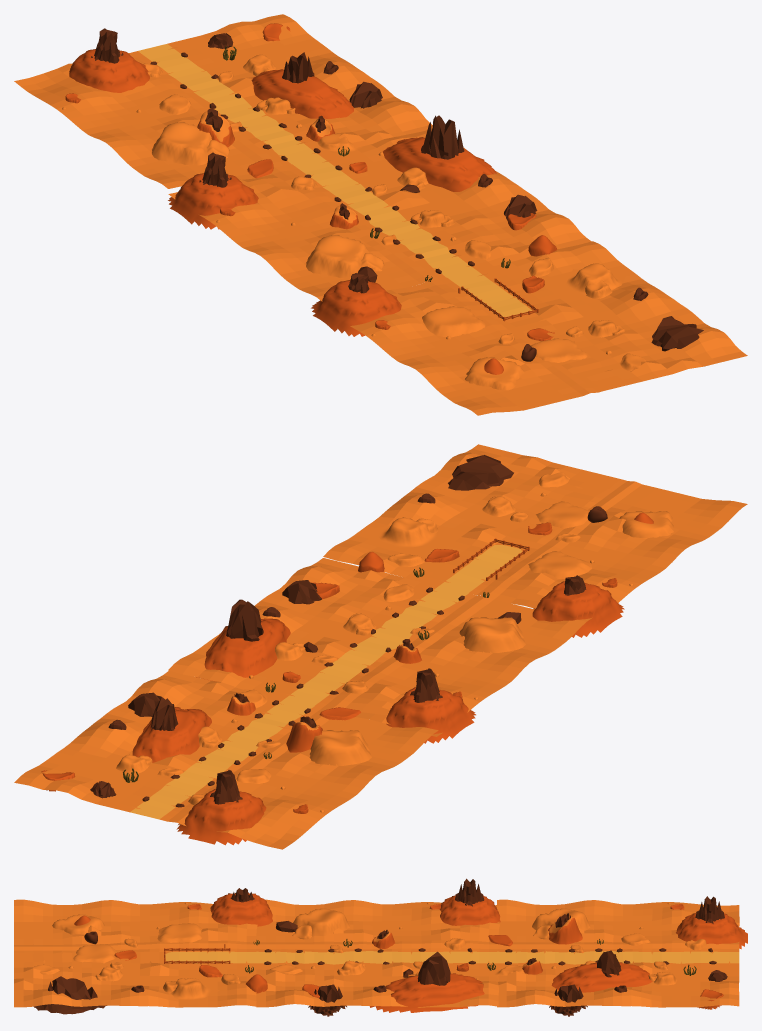
File: Desert.fbx
3 renders of one model, top to bottom at view 1: azimuth 30°, elevation 25°; view 2: azimuth 150°, elevation 25°; view 3: azimuth 270°, elevation 25°, orthographic. The views are drawn at different scales.
Visible parts, largest first — view 1: Plane.002, Plane, Plane.001, Ground.001, Ground.014, Ground.009, Ground.004, Ground.007, Landscape.023, Landscape.004, Landscape.053, Ground.003 (+7 smaller); view 2: Plane.002, Plane.001, Plane, Ground.007, Ground.001, Ground.014, Ground.004, Ground.009, Landscape.004, Landscape.023, Ground.019, Landscape.050 (+9 smaller); view 3: Plane.002, Plane.001, Plane, Ground.001, Ground.009, Ground.007, Ground.014, Ground.004, Ground.019, Landscape.004, Ground.003, Landscape.050 (+14 smaller).
Boxes of the visible parts, x1=… form: Plane.002: x1=350, y1=241, x2=747, y2=415; Plane: x1=168, y1=129, x2=591, y2=301; Plane.001: x1=14, y1=14, x2=432, y2=188; Ground.001: x1=383, y1=137, x2=496, y2=191; Ground.014: x1=311, y1=279, x2=401, y2=336; Ground.009: x1=251, y1=69, x2=353, y2=118; Ground.004: x1=168, y1=173, x2=258, y2=229; Ground.007: x1=69, y1=49, x2=149, y2=92; Landscape.023: x1=152, y1=122, x2=211, y2=165; Landscape.004: x1=306, y1=235, x2=370, y2=278; Landscape.053: x1=422, y1=306, x2=485, y2=337; Ground.003: x1=421, y1=115, x2=464, y2=159; Plane.002: x1=323, y1=444, x2=747, y2=608; Plane.001: x1=14, y1=670, x2=438, y2=849; Plane: x1=168, y1=558, x2=592, y2=736; Ground.007: x1=176, y1=789, x2=266, y2=845; Ground.001: x1=196, y1=618, x2=290, y2=681; Ground.014: x1=532, y1=581, x2=624, y2=637; Ground.004: x1=386, y1=687, x2=475, y2=743; Ground.009: x1=132, y1=707, x2=211, y2=762; Landscape.004: x1=459, y1=617, x2=525, y2=652; Landscape.023: x1=309, y1=730, x2=371, y2=765; Ground.019: x1=448, y1=455, x2=513, y2=490; Landscape.050: x1=372, y1=517, x2=443, y2=550; Plane.002: x1=14, y1=899, x2=257, y2=1007; Plane.001: x1=497, y1=899, x2=739, y2=1007; Plane: x1=256, y1=899, x2=499, y2=1007; Ground.001: x1=369, y1=973, x2=484, y2=1012; Ground.009: x1=551, y1=962, x2=652, y2=992; Ground.007: x1=676, y1=911, x2=747, y2=949; Ground.014: x1=210, y1=892, x2=272, y2=926; Ground.004: x1=440, y1=894, x2=500, y2=925; Ground.019: x1=34, y1=976, x2=106, y2=1014; Landscape.004: x1=293, y1=908, x2=349, y2=936; Ground.003: x1=417, y1=951, x2=450, y2=985; Landscape.050: x1=162, y1=978, x2=219, y2=1003.
Bounding box in the file's own units: 10548 × 2351 × 30300.
